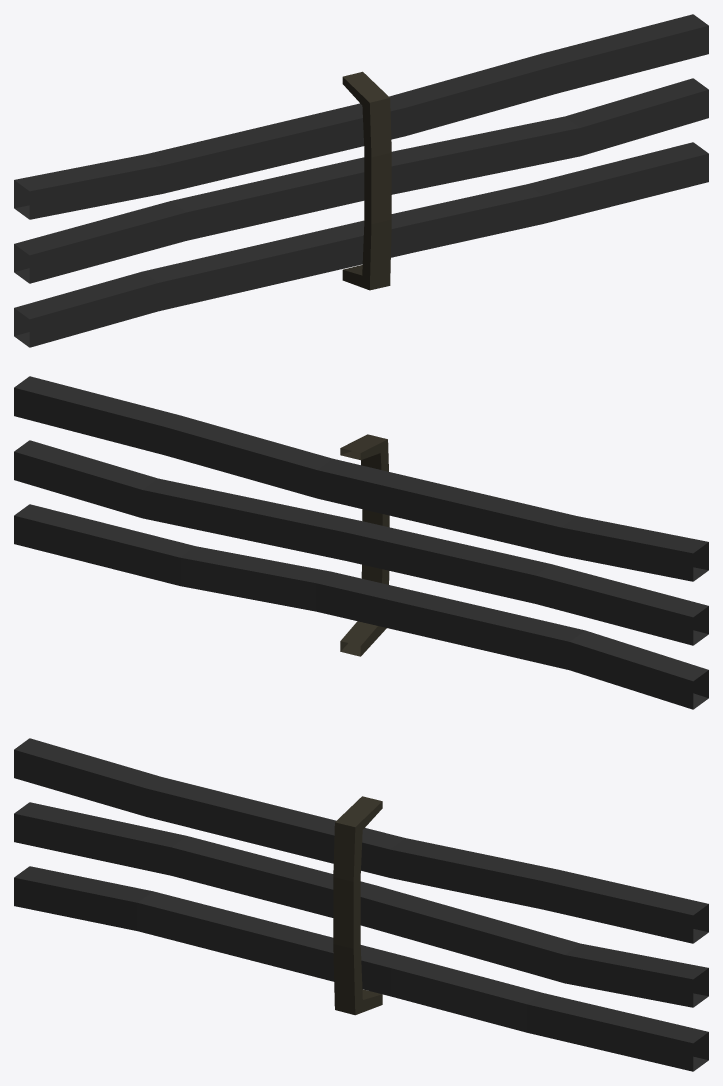
Rendered from SW_ENV_Wires3_FlatWall_1m.fbx.
3 views of the same model, one above another, from view 1: azimuth 30°, elevation 25°; view 2: azimuth 150°, elevation 25°; view 3: azimuth 330°, elevation 25° (orthographic).
Parts seen in each view (by area): view 1: SW_ENV_Wires3_FlatWall_1m; view 2: SW_ENV_Wires3_FlatWall_1m; view 3: SW_ENV_Wires3_FlatWall_1m.
Boxes of the visible parts, bbox=[...] form: SW_ENV_Wires3_FlatWall_1m: bbox=[14, 14, 708, 347]; SW_ENV_Wires3_FlatWall_1m: bbox=[14, 376, 708, 709]; SW_ENV_Wires3_FlatWall_1m: bbox=[14, 738, 708, 1071].
Size of the model in its own units: 100 by 28.66 by 7.36.
